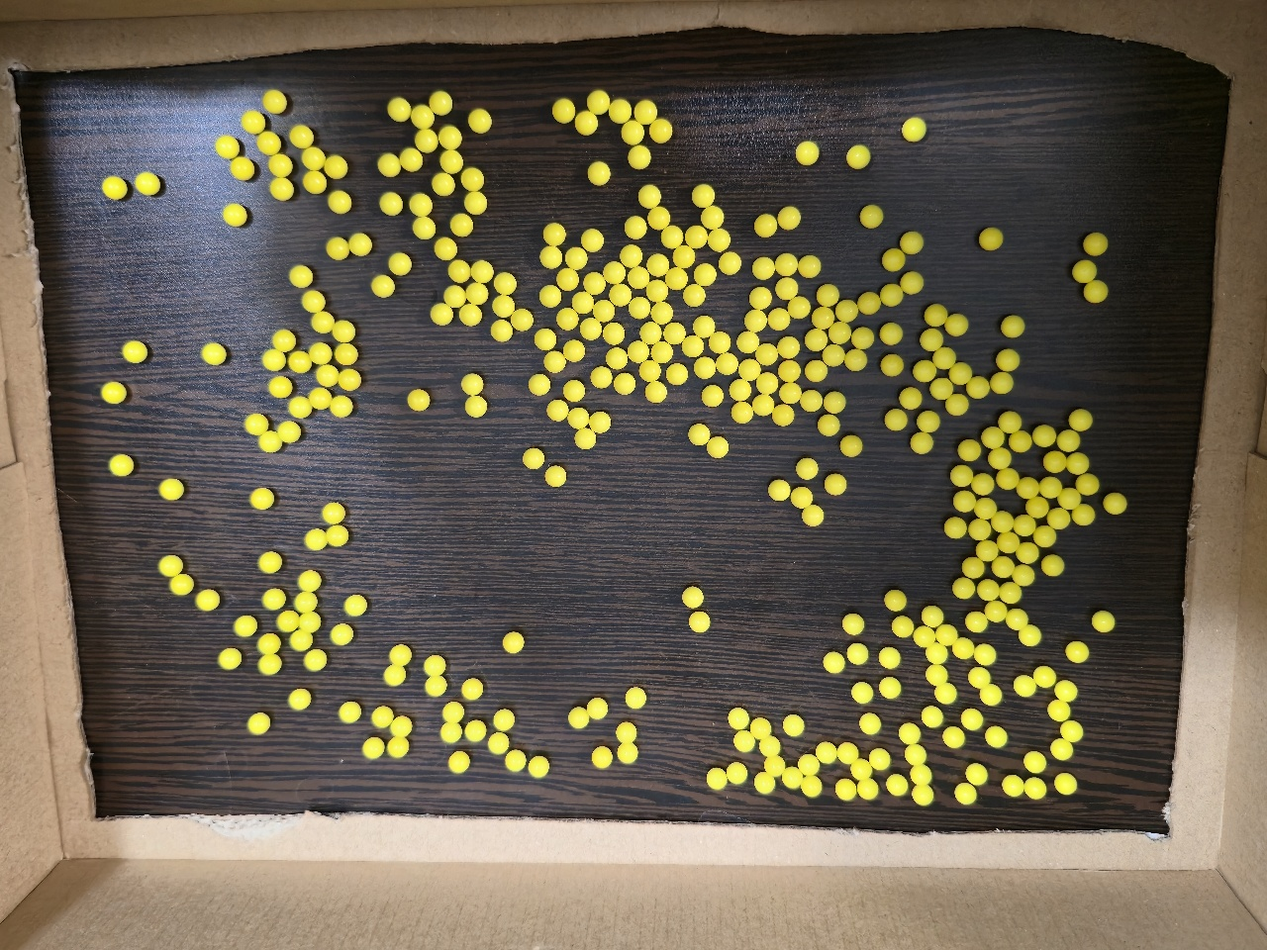yellow_bead: (755, 723, 780, 773), (974, 672, 997, 701), (294, 616, 316, 646), (389, 650, 406, 682), (309, 530, 343, 545), (392, 722, 407, 754), (445, 708, 459, 739), (916, 766, 928, 801), (262, 642, 276, 670), (429, 661, 441, 692), (622, 728, 633, 759), (267, 352, 281, 366), (221, 140, 235, 154), (473, 114, 487, 128), (267, 95, 281, 109), (299, 595, 312, 610), (206, 347, 221, 360), (140, 177, 155, 190), (247, 115, 260, 130), (417, 110, 430, 125), (614, 104, 627, 119), (293, 402, 309, 414), (277, 334, 290, 348), (294, 270, 308, 283), (385, 197, 398, 211), (273, 159, 287, 172), (445, 154, 458, 168), (294, 130, 308, 143), (908, 123, 921, 137), (393, 103, 406, 117), (174, 579, 189, 591), (263, 435, 278, 447), (274, 183, 289, 195), (640, 105, 652, 120), (593, 95, 605, 110), (856, 763, 867, 779), (1023, 628, 1036, 641), (303, 576, 316, 589), (757, 262, 770, 275), (439, 242, 452, 255), (418, 222, 431, 235), (455, 219, 468, 232), (643, 190, 656, 203), (466, 173, 479, 186), (383, 158, 396, 171), (405, 153, 418, 166), (307, 152, 320, 165), (852, 150, 865, 163), (443, 132, 456, 145), (263, 557, 277, 569), (115, 459, 129, 471), (249, 419, 263, 431), (321, 370, 335, 382), (316, 317, 330, 329), (307, 296, 321, 308), (376, 280, 390, 292), (707, 211, 719, 225), (228, 209, 242, 221), (802, 146, 814, 160), (581, 116, 593, 130), (862, 780, 873, 795), (940, 685, 951, 700), (931, 669, 942, 684), (163, 561, 178, 572), (281, 427, 296, 438), (313, 394, 328, 405), (1028, 783, 1041, 795), (805, 779, 817, 792), (252, 718, 265, 730), (1038, 671, 1051, 683), (267, 594, 280, 606), (327, 508, 340, 520), (935, 383, 948, 395), (314, 347, 327, 359), (926, 333, 938, 346), (833, 327, 846, 339), (750, 315, 762, 328), (656, 307, 668, 320), (498, 300, 510, 313), (755, 292, 767, 305), (589, 277, 601, 290), (476, 265, 488, 278), (780, 258, 793, 270), (394, 258, 407, 270), (713, 234, 726, 246), (586, 234, 599, 246), (784, 212, 796, 225), (415, 199, 427, 212), (469, 197, 482, 209), (334, 196, 346, 209), (593, 167, 605, 180), (633, 150, 645, 163), (420, 135, 433, 147), (804, 759, 815, 773), (911, 749, 922, 763), (223, 654, 237, 665), (628, 126, 639, 140), (128, 348, 143, 358), (960, 788, 972, 800), (1008, 780, 1020, 792), (1060, 778, 1072, 790), (787, 772, 799, 784), (1029, 756, 1041, 768), (1056, 743, 1068, 755), (1066, 725, 1078, 737), (1072, 646, 1084, 658), (957, 642, 969, 654), (951, 399, 963, 411), (806, 395, 818, 407), (743, 364, 755, 376), (938, 352, 950, 364), (761, 348, 773, 360), (656, 346, 668, 358), (687, 340, 699, 352), (742, 336, 754, 348), (811, 334, 823, 346), (539, 333, 551, 345), (585, 323, 597, 335), (517, 314, 529, 326), (464, 309, 476, 321), (841, 305, 853, 317), (598, 305, 610, 317), (794, 302, 806, 314), (633, 302, 645, 314), (577, 297, 589, 309), (449, 291, 461, 303), (544, 290, 556, 302), (615, 289, 627, 301), (471, 288, 483, 300), (651, 285, 663, 297), (781, 283, 793, 295), (499, 278, 511, 290), (671, 272, 683, 284), (700, 269, 712, 281), (609, 267, 621, 279), (453, 265, 465, 277), (804, 260, 816, 272), (652, 259, 664, 271), (570, 253, 582, 265), (545, 251, 557, 263), (332, 242, 344, 254), (354, 238, 366, 250), (760, 220, 772, 232), (653, 212, 665, 224), (866, 211, 878, 223), (698, 190, 710, 202), (759, 777, 770, 790), (712, 773, 723, 786), (971, 768, 982, 781), (293, 695, 306, 706), (309, 655, 322, 666), (931, 646, 942, 659), (239, 621, 252, 632), (349, 601, 362, 612), (337, 326, 350, 337), (818, 312, 829, 325), (823, 289, 834, 302), (689, 289, 700, 302), (679, 250, 690, 263), (626, 249, 637, 262), (630, 221, 641, 234), (438, 178, 449, 191), (331, 160, 342, 173), (436, 97, 447, 110), (201, 596, 215, 606), (892, 779, 903, 791), (731, 768, 742, 780), (841, 748, 853, 759), (367, 743, 379, 754), (493, 737, 504, 749), (739, 735, 750, 747), (991, 731, 1002, 743), (949, 731, 960, 743), (904, 728, 916, 739), (865, 718, 876, 730), (498, 714, 509, 726), (967, 713, 978, 725), (574, 712, 585, 724), (376, 712, 388, 723), (591, 704, 603, 715), (857, 687, 868, 699), (1060, 686, 1072, 697), (885, 682, 896, 694), (1019, 681, 1031, 692), (885, 652, 896, 664), (979, 649, 991, 660), (852, 648, 863, 660), (919, 631, 930, 643), (940, 629, 952, 640), (1012, 614, 1023, 626), (1006, 587, 1017, 599), (958, 583, 970, 594), (974, 524, 986, 535), (1053, 513, 1065, 524), (981, 503, 992, 515), (959, 496, 971, 507), (167, 484, 179, 495), (956, 471, 968, 482), (1063, 435, 1075, 446), (594, 417, 606, 428), (1075, 416, 1087, 427), (470, 401, 482, 412), (336, 401, 347, 413), (758, 399, 769, 411), (413, 395, 425, 406), (708, 390, 719, 402), (651, 386, 662, 398), (734, 385, 746, 396), (569, 385, 580, 397), (467, 379, 478, 391), (762, 378, 773, 390), (997, 377, 1008, 389), (784, 366, 796, 377), (919, 365, 930, 377), (811, 365, 823, 376), (722, 358, 733, 370), (1003, 355, 1015, 366), (851, 354, 862, 366), (612, 352, 623, 364), (828, 349, 839, 361), (340, 348, 352, 359), (783, 341, 795, 352), (857, 333, 869, 344), (669, 328, 681, 339), (608, 328, 620, 339), (645, 327, 656, 339), (698, 321, 710, 332), (562, 313, 573, 325), (907, 277, 919, 288), (563, 273, 574, 285), (725, 257, 736, 269), (666, 232, 678, 243), (549, 229, 560, 241), (343, 708, 356, 718), (1004, 418, 1017, 428), (658, 124, 667, 138), (561, 104, 570, 118), (470, 726, 481, 737), (733, 713, 744, 724), (467, 685, 478, 696), (828, 657, 839, 668), (898, 621, 909, 632), (848, 618, 859, 629), (927, 611, 938, 622), (890, 595, 901, 606), (983, 585, 994, 596), (1018, 570, 1029, 581), (998, 562, 1009, 573), (950, 522, 961, 533), (808, 510, 819, 521), (258, 494, 269, 505), (774, 485, 785, 496), (978, 479, 989, 490), (830, 479, 841, 490), (802, 463, 813, 474), (963, 445, 974, 456), (846, 440, 857, 451), (580, 433, 591, 444), (988, 432, 999, 443), (1040, 431, 1051, 442), (694, 429, 705, 440), (923, 416, 934, 427), (891, 415, 902, 426), (573, 413, 584, 424), (737, 408, 748, 419), (829, 397, 840, 408), (785, 388, 796, 399), (620, 378, 631, 389), (672, 369, 683, 380), (700, 362, 711, 373), (887, 360, 898, 371), (549, 356, 560, 367), (569, 345, 580, 356), (715, 337, 726, 348), (952, 320, 963, 331), (774, 314, 785, 325), (436, 309, 447, 320), (864, 298, 875, 309), (692, 232, 703, 243), (311, 178, 322, 189), (454, 757, 464, 769), (875, 754, 885, 766), (598, 752, 608, 764), (971, 617, 983, 627), (1098, 617, 1110, 627), (905, 394, 917, 404), (974, 382, 984, 394), (957, 368, 967, 380), (645, 365, 655, 377), (634, 346, 644, 358), (496, 326, 508, 336), (841, 785, 851, 796), (534, 762, 544, 773), (511, 756, 521, 767), (822, 748, 832, 759), (789, 720, 799, 731), (927, 712, 938, 722), (631, 693, 641, 704), (509, 637, 519, 648), (282, 617, 293, 627), (991, 607, 1001, 618), (1049, 560, 1059, 571), (1040, 532, 1051, 542), (1066, 494, 1076, 505), (797, 493, 808, 503), (551, 471, 561, 482), (529, 453, 539, 464), (713, 442, 724, 452), (917, 437, 927, 448), (824, 420, 834, 431), (553, 405, 563, 416), (535, 379, 545, 390), (597, 372, 607, 383), (634, 272, 644, 283), (907, 238, 918, 248), (695, 617, 705, 627), (689, 593, 699, 603), (779, 411, 789, 421), (888, 291, 898, 301), (1092, 287, 1102, 297), (998, 518, 1009, 527), (1011, 322, 1020, 333), (994, 456, 1006, 464), (261, 140, 274, 147), (1021, 521, 1030, 531), (1112, 499, 1121, 509), (888, 329, 897, 339), (968, 565, 979, 573), (982, 548, 993, 556), (1080, 270, 1091, 278), (1053, 709, 1065, 716), (1093, 239, 1102, 248), (988, 235, 997, 244), (238, 163, 247, 172), (1023, 551, 1033, 559), (1047, 483, 1055, 493), (345, 378, 356, 385), (297, 360, 306, 368), (933, 313, 941, 322), (1075, 462, 1084, 469), (1080, 515, 1090, 521), (111, 393, 121, 399), (273, 386, 283, 392), (1006, 542, 1015, 548), (1084, 484, 1092, 490), (888, 260, 896, 266), (1023, 488, 1030, 494), (344, 630, 348, 638), (1034, 509, 1041, 513), (1006, 480, 1011, 485), (1019, 442, 1024, 447), (1053, 463, 1057, 468), (111, 186, 114, 188), (342, 639, 343, 640), (342, 629, 343, 630), (279, 436, 280, 437)
